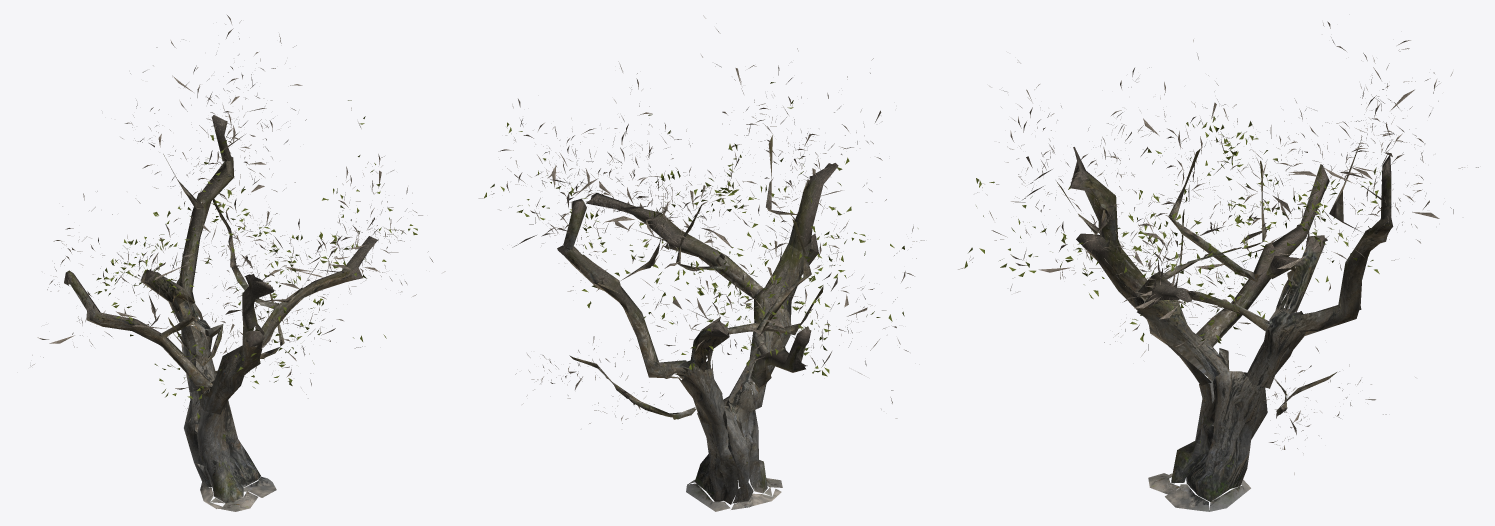
The model's file is canopy-oak.glb.
3 views of the same model, side by side, from view 1: azimuth 30°, elevation 25°; view 2: azimuth 150°, elevation 25°; view 3: azimuth 270°, elevation 25° (orthographic). The views are drawn at different scales.
Parts seen in each view (by area): view 1: island_tree_01_LOD0; view 2: island_tree_01_LOD0; view 3: island_tree_01_LOD0.
Boxes of the visible parts, x1,y1,x2,y2 form: island_tree_01_LOD0: (30, 15, 445, 511); island_tree_01_LOD0: (478, 15, 924, 511); island_tree_01_LOD0: (958, 21, 1478, 511).
Size of the model in its own units: 4.54 by 4.87 by 4.6.
Materials: 3 (3 with a texture image).
